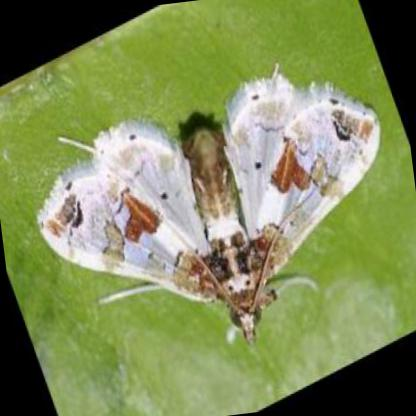leucinodes: (34, 72, 380, 347)
